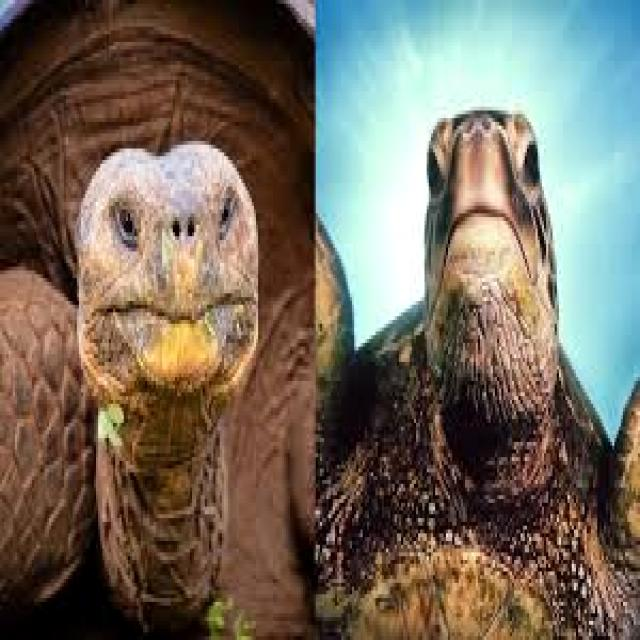Sea turtle: (3, 2, 309, 640), (321, 62, 640, 640)
